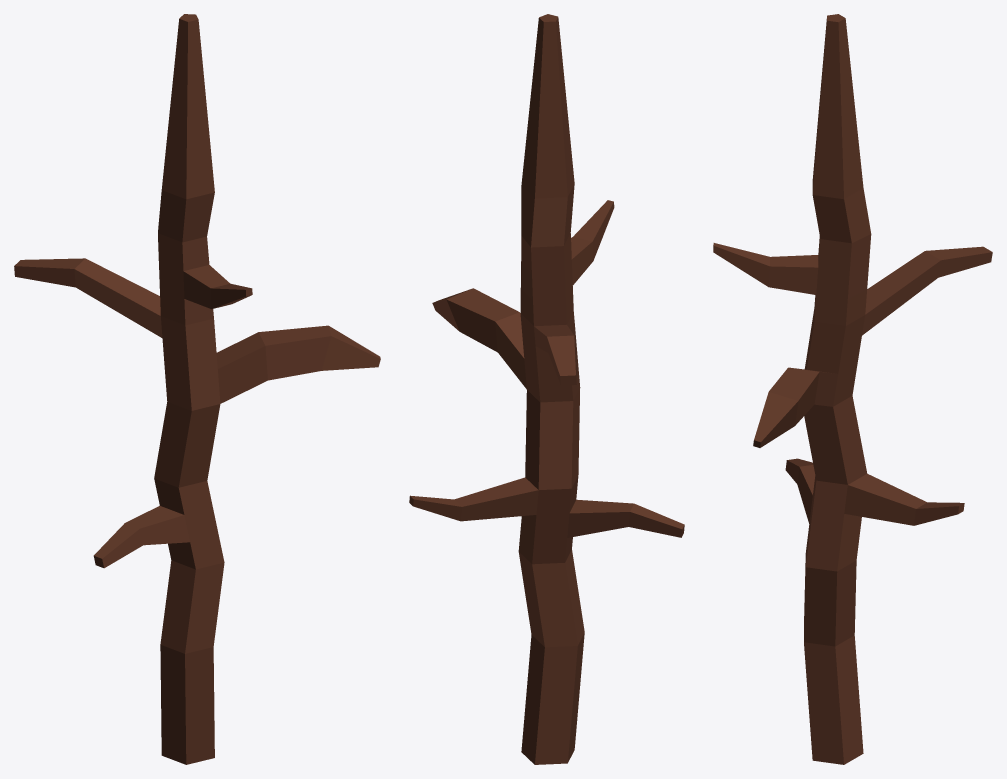
The model's file is stick.fbx.
The picture shows the model from 3 angles, left to right: view 1: azimuth 30°, elevation 25°; view 2: azimuth 150°, elevation 25°; view 3: azimuth 270°, elevation 25°; orthographic projection.
Visible parts, largest first — view 1: Cylinder; view 2: Cylinder; view 3: Cylinder.
Boxes of the visible parts, x1,y1,x2,y2 form: Cylinder: (14, 14, 380, 764); Cylinder: (409, 14, 684, 764); Cylinder: (713, 14, 992, 764).
Size of the model in its own units: 81.92 by 215 by 73.98.
